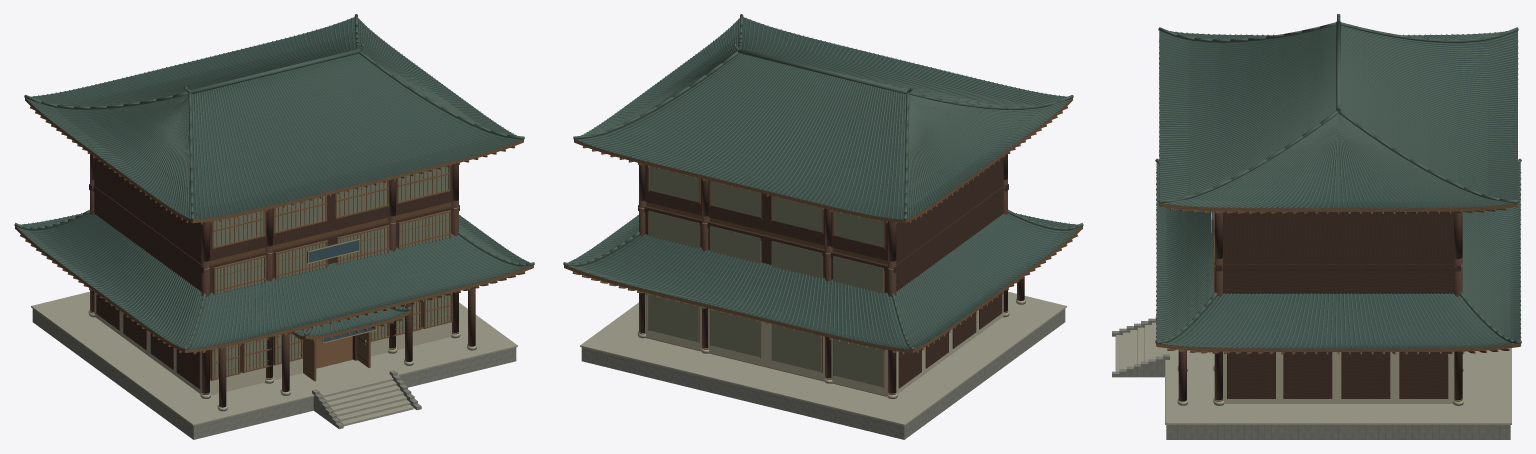
The model's file is scripture_pavilion.glb.
The picture shows the model from 3 angles, left to right: view 1: azimuth 30°, elevation 25°; view 2: azimuth 150°, elevation 25°; view 3: azimuth 270°, elevation 25°; orthographic projection. The views are drawn at different scales.
Parts seen in each view (by area): view 1: Scripture_JadeTile, Scripture_TileEdge, Scripture_Timber, Scripture_Coping, Scripture_CarvedWood, Scripture_Window, Scripture_Stone, Scripture_Plaster, Scripture_Floor, Scripture_Indigo; view 2: Scripture_JadeTile, Scripture_TileEdge, Scripture_Window, Scripture_Timber, Scripture_Coping, Scripture_Stone, Scripture_CarvedWood, Scripture_Plaster, Scripture_Floor; view 3: Scripture_TileEdge, Scripture_JadeTile, Scripture_Timber, Scripture_Coping, Scripture_Stone, Scripture_CarvedWood, Scripture_Plaster.
Part boxes in pixels (left/top/right/bottom): Scripture_JadeTile: left=16, top=17, right=531, bottom=349; Scripture_TileEdge: left=14, top=14, right=534, bottom=349; Scripture_Timber: left=89, top=154, right=475, bottom=407; Scripture_Coping: left=31, top=291, right=517, bottom=426; Scripture_CarvedWood: left=15, top=98, right=533, bottom=381; Scripture_Window: left=213, top=166, right=450, bottom=378; Scripture_Stone: left=32, top=309, right=516, bottom=439; Scripture_Plaster: left=94, top=294, right=451, bottom=395; Scripture_Floor: left=210, top=202, right=451, bottom=368; Scripture_Indigo: left=307, top=238, right=375, bottom=342; Scripture_JadeTile: left=566, top=17, right=1081, bottom=349; Scripture_TileEdge: left=563, top=14, right=1083, bottom=349; Scripture_Window: left=648, top=166, right=883, bottom=386; Scripture_Timber: left=638, top=154, right=1024, bottom=394; Scripture_Coping: left=580, top=291, right=1066, bottom=425; Scripture_Stone: left=581, top=309, right=1065, bottom=439; Scripture_CarvedWood: left=564, top=98, right=1082, bottom=387; Scripture_Plaster: left=645, top=292, right=1003, bottom=395; Scripture_Floor: left=645, top=202, right=887, bottom=396; Scripture_TileEdge: left=1155, top=14, right=1521, bottom=348; Scripture_JadeTile: left=1156, top=26, right=1520, bottom=348; Scripture_Timber: left=1178, top=211, right=1462, bottom=401; Scripture_Coping: left=1115, top=322, right=1511, bottom=424; Scripture_Stone: left=1112, top=316, right=1510, bottom=439; Scripture_CarvedWood: left=1156, top=40, right=1521, bottom=354; Scripture_Plaster: left=1223, top=351, right=1454, bottom=403.
Size of the model in its own units: 23.94 by 18.02 by 22.62.
12 materials, 7 textured.
